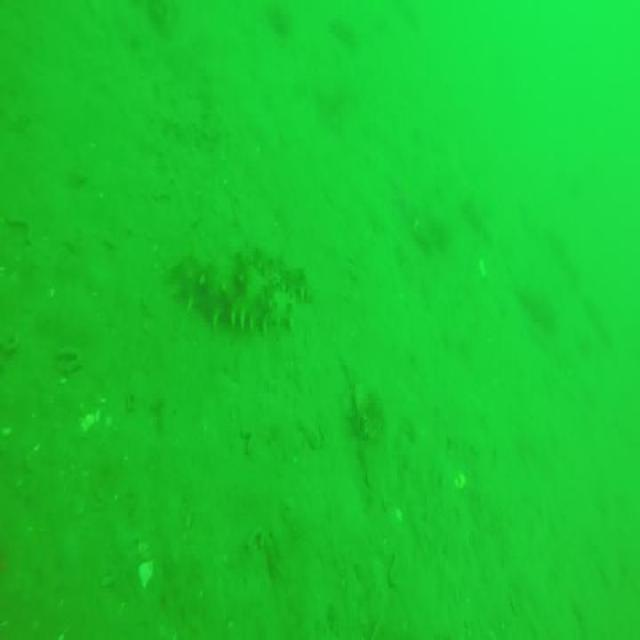holothurian: (178, 238, 308, 326)
